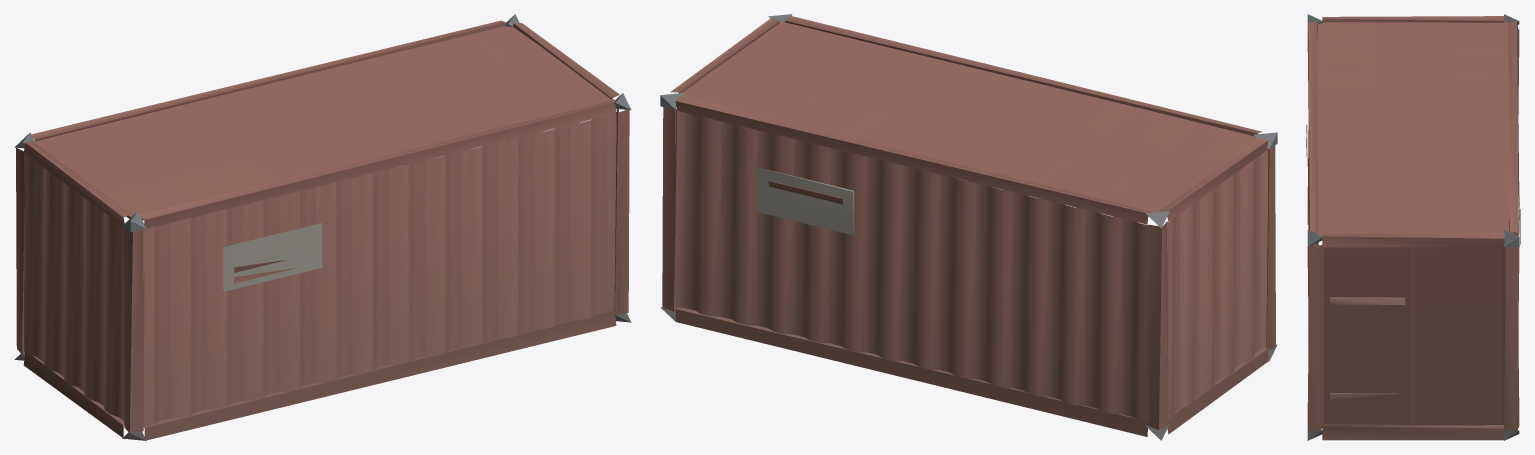
Rendered from box_red.lod1.glb.
3 renders of one model, left to right at view 1: azimuth 30°, elevation 25°; view 2: azimuth 150°, elevation 25°; view 3: azimuth 270°, elevation 25°, orthographic. The views are drawn at different scales.
Size of the model in its own units: 6.08 by 2.59 by 2.47.
